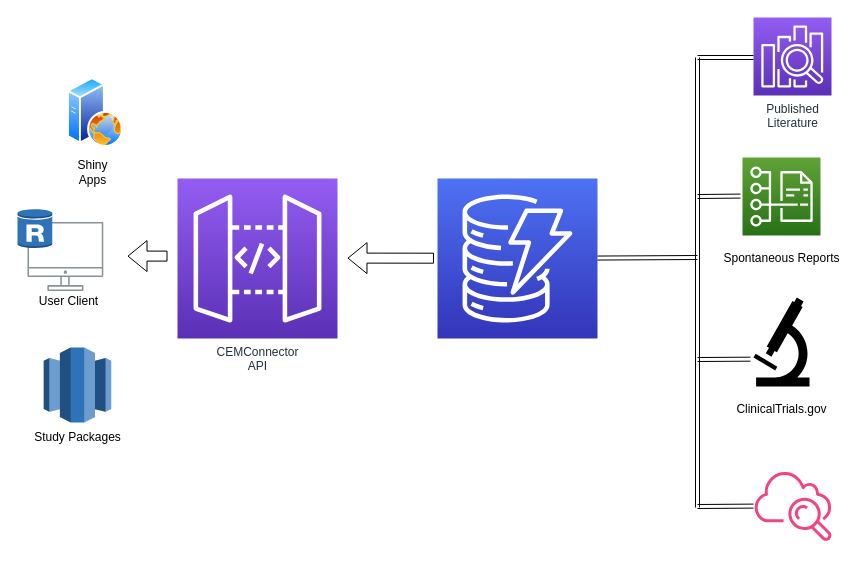
Some shapes in this 864 by 584 pixel diagram are drawn without their labels. The shapes that lost their labels are listed below. From the top down, each one's centre as x and y in pixels, then its label:
At point 517,258: "Common Evidence Model".
At point 792,506: "Product Labels".
